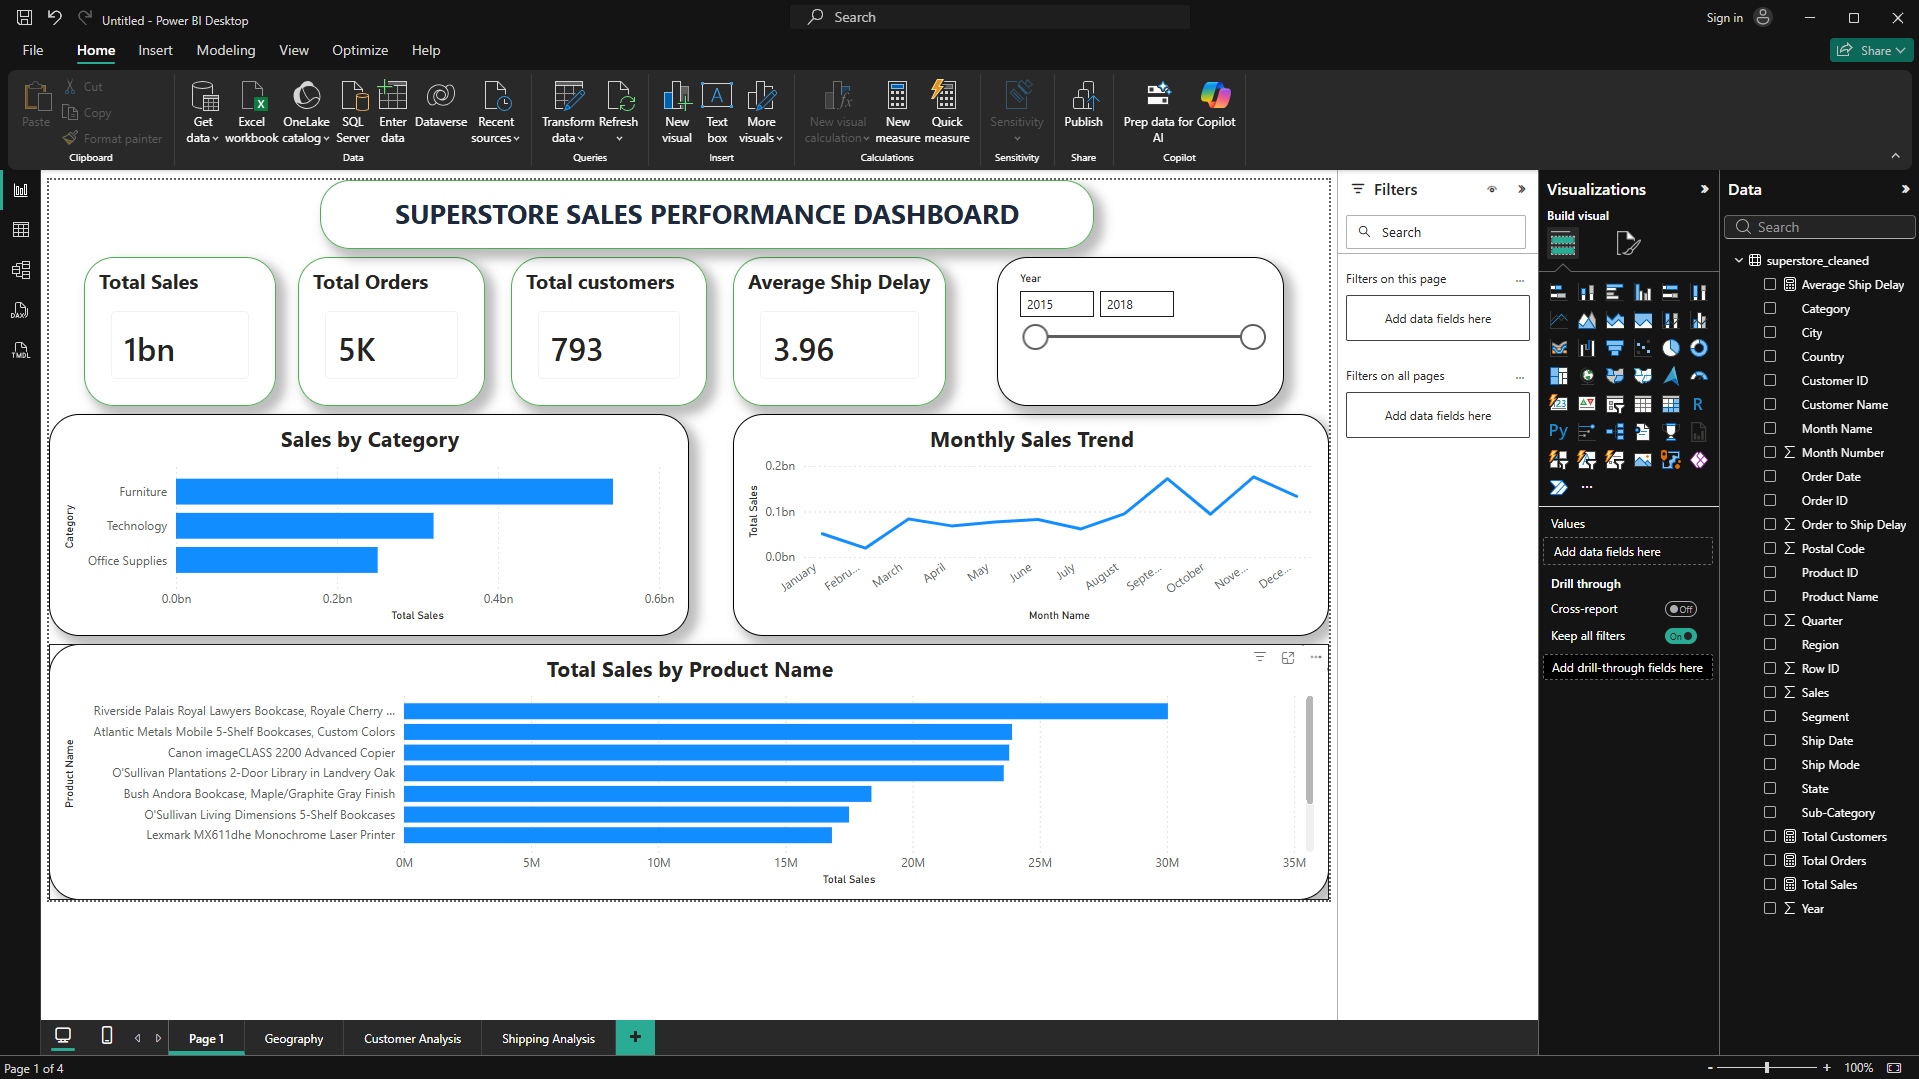

Layout of this report page (visuals, bound fields, positions):
{"tool":"powerbi","page":{"name":"Page 1","canvas":[1280,720],"ordinal":0},"visuals":[{"type":"cardVisual","title":"Total Sales","fields":{"Data":["superstore_cleaned.Total Sales"]},"box":[35,77,192,149],"z":0},{"type":"cardVisual","title":"Total Orders","fields":{"Data":["superstore_cleaned.Total Orders"]},"box":[249,77,187,149],"z":1000},{"type":"cardVisual","title":"Total customers","fields":{"Data":["superstore_cleaned.Total Customers"]},"box":[462,77,196,149],"z":2000},{"type":"cardVisual","title":"Average Ship Delay","fields":{"Data":["superstore_cleaned.Average Ship Delay"]},"box":[684,77,213,149],"z":3000},{"type":"clusteredBarChart","title":"Sales by Category","fields":{"Category":["superstore_cleaned.Category"],"Y":["superstore_cleaned.Total Sales"]},"box":[0,234.1,640,222.2],"z":4000},{"type":"textbox","box":[271,0,774,69],"z":5000},{"type":"lineChart","title":"Monthly Sales Trend","fields":{"Category":["superstore_cleaned.Month Name"],"Y":["superstore_cleaned.Total Sales"]},"box":[684.4,234.1,595.6,222.2],"z":5001},{"type":"clusteredBarChart","fields":{"Y":["superstore_cleaned.Total Sales"],"Category":["superstore_cleaned.Product Name"]},"box":[0,464.2,1280,255.8],"z":5002},{"type":"slicer","fields":{"Values":["superstore_cleaned.Year"]},"box":[948,77,287,149],"z":5003}]}

Visuals, with their boxes on the page's 1280x720 design canvas (x1, y1, x2, y2). These are canvas units, not pixel positions in the 1919x1079 screenshot, which may show the page scaled, cropped or inside an application window:
"Total Sales" cardVisual: select_region(35, 77, 227, 226)
"Total Orders" cardVisual: select_region(249, 77, 436, 226)
"Total customers" cardVisual: select_region(462, 77, 658, 226)
"Average Ship Delay" cardVisual: select_region(684, 77, 897, 226)
"Sales by Category" clusteredBarChart: select_region(0, 234, 640, 456)
textbox: select_region(271, 0, 1045, 69)
"Monthly Sales Trend" lineChart: select_region(684, 234, 1280, 456)
clusteredBarChart - superstore_cleaned.Total Sales x superstore_cleaned.Product Name: select_region(0, 464, 1280, 720)
slicer - superstore_cleaned.Year: select_region(948, 77, 1235, 226)
